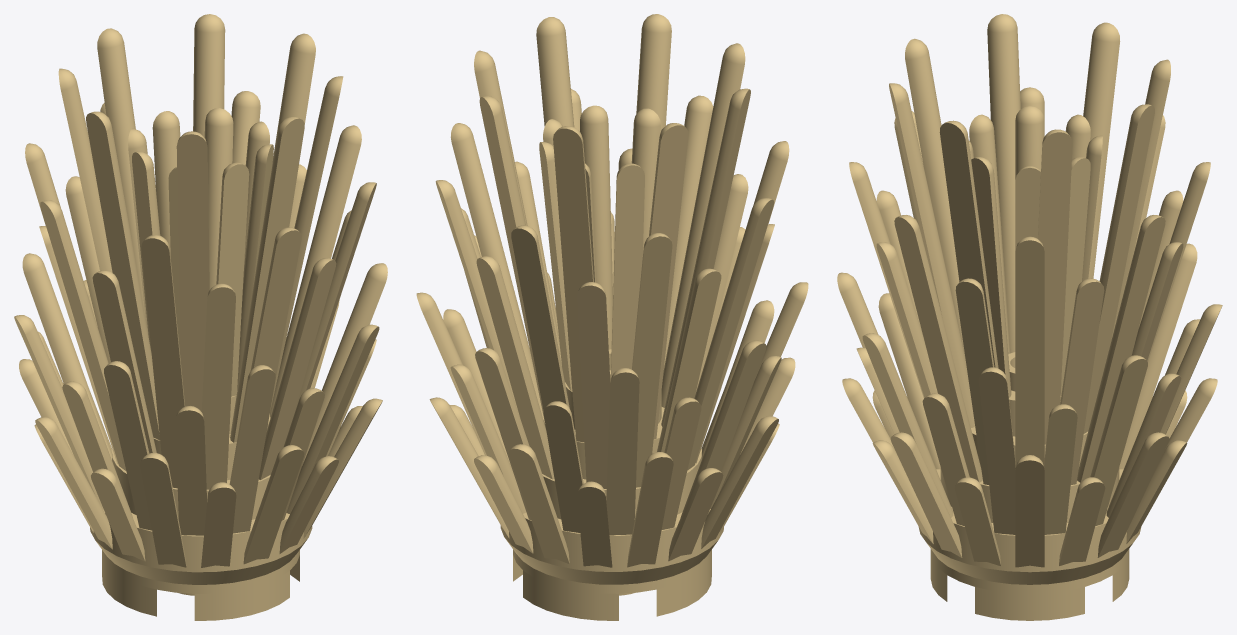
File: LEGO Bush.fbx
3 renders of one model, left to right at view 1: azimuth 30°, elevation 25°; view 2: azimuth 150°, elevation 25°; view 3: azimuth 270°, elevation 25°, orthographic.
Parts seen in each view (by area): view 1: Sphere.008; view 2: Sphere.008; view 3: Sphere.008.
Boxes of the visible parts, x1=… form: Sphere.008: x1=14, y1=14, x2=387, y2=620; Sphere.008: x1=416, y1=14, x2=808, y2=620; Sphere.008: x1=837, y1=14, x2=1222, y2=620.
Size of the model in its own units: 110 by 110 by 159.
